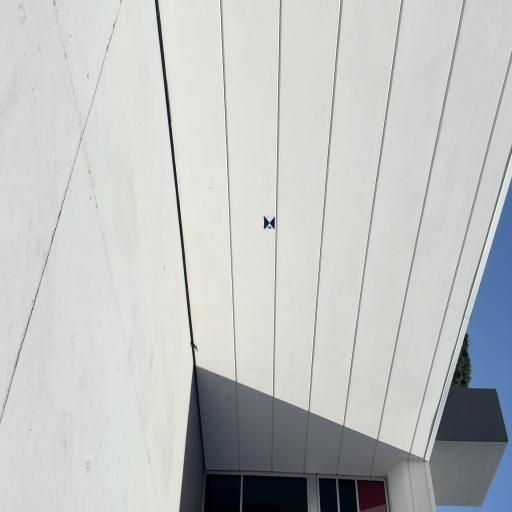target7: (264, 215, 275, 231)
